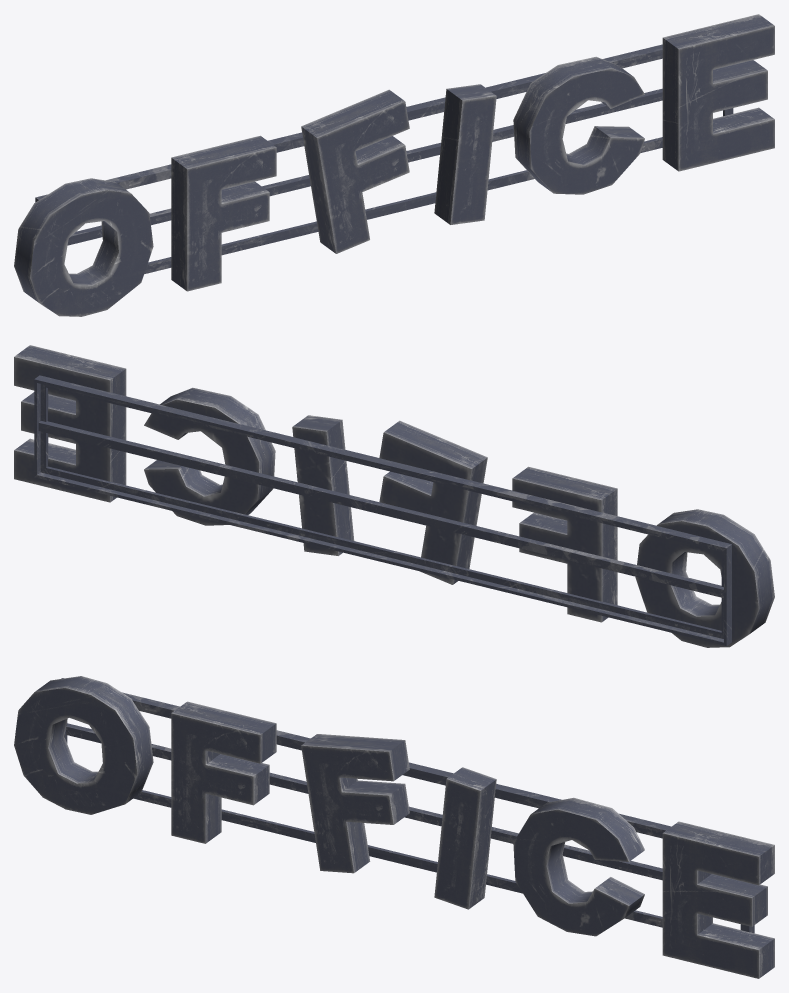
File: Office1_LOD1.fbx
3 renders of one model, top to bottom at view 1: azimuth 30°, elevation 25°; view 2: azimuth 150°, elevation 25°; view 3: azimuth 330°, elevation 25°, orthographic.
Visible parts, largest first — view 1: polySurface365; view 2: polySurface365; view 3: polySurface365.
Boxes of the visible parts, x1,y1,x2,y2 form: polySurface365: (14,14,774,316); polySurface365: (14,345,774,647); polySurface365: (14,676,774,978).
Size of the model in its own units: 532 by 94.41 by 26.67.
Materials: 1 (1 with a texture image).
